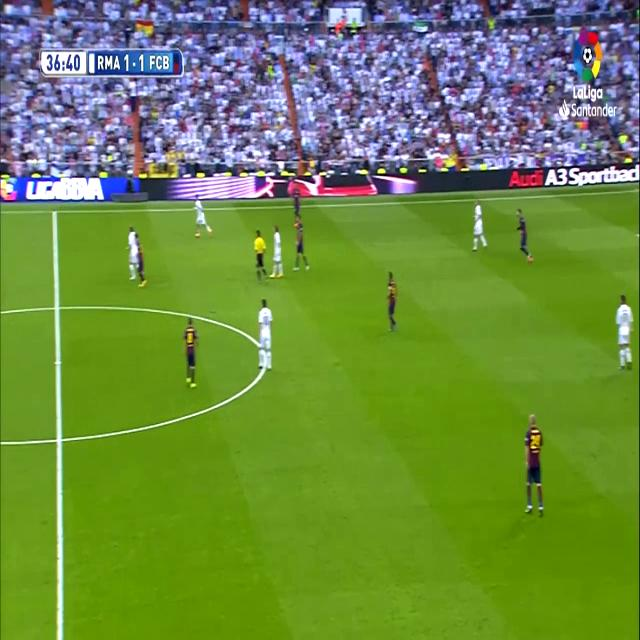bigarea_top_inner: (632, 225, 639, 242)
halfcircle_bottom: (50, 417, 68, 459)
halfcircle_top: (49, 289, 65, 325)
midline_top_intersection: (48, 203, 62, 224)
